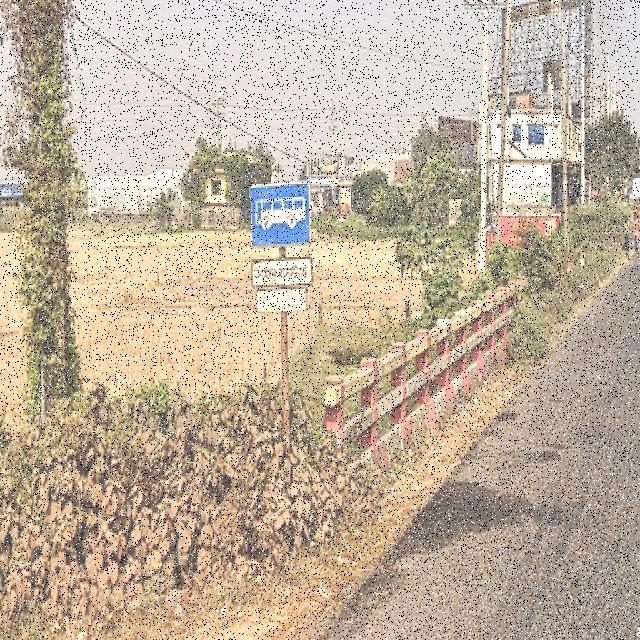Ahead-the-bus-station: (247, 176, 317, 321)
